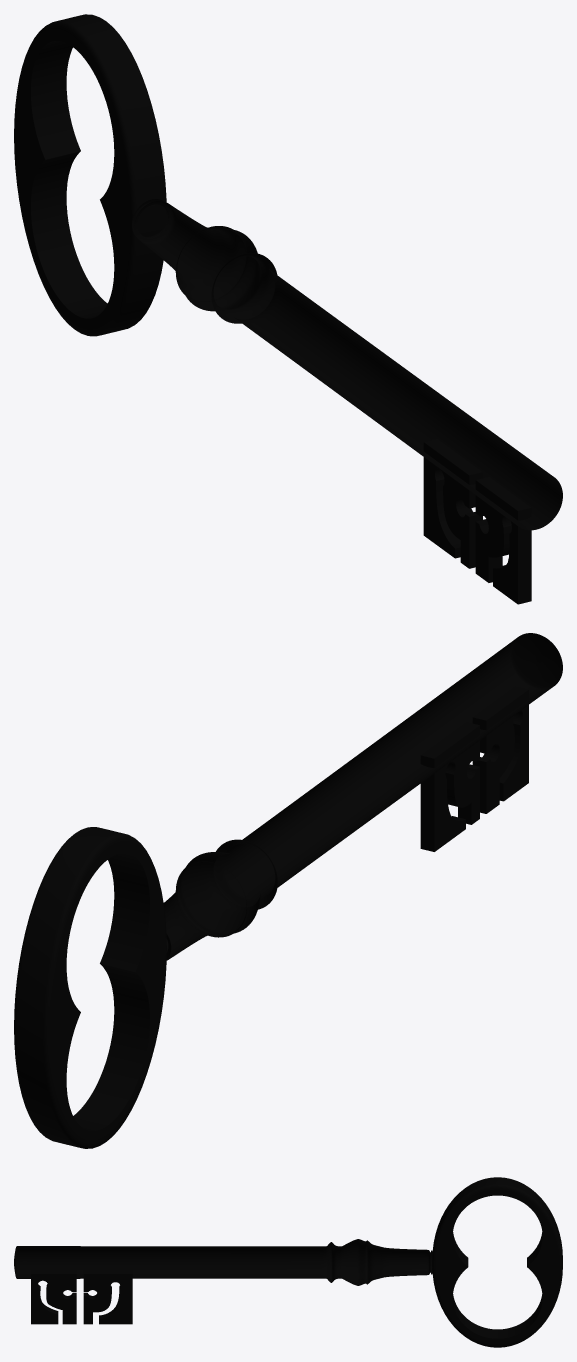
Rendered from key.fbx.
3 views of the same model, one above another, from view 1: azimuth 30°, elevation 25°; view 2: azimuth 150°, elevation 25°; view 3: azimuth 270°, elevation 25° (orthographic). The views are drawn at different scales.
Visible parts, largest first — view 1: Line001_Material #30_1; view 2: Line001_Material #30_1; view 3: Line001_Material #30_1.
Boxes of the visible parts, bbox=[...] form: Line001_Material #30_1: bbox=[14, 14, 562, 604]; Line001_Material #30_1: bbox=[14, 633, 562, 1148]; Line001_Material #30_1: bbox=[14, 1177, 562, 1347].
Size of the model in its own units: 0.1726 by 0.6625 by 2.02.
1 material, 1 textured.
